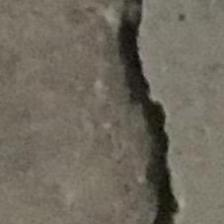Crack: (97, 1, 224, 224)
